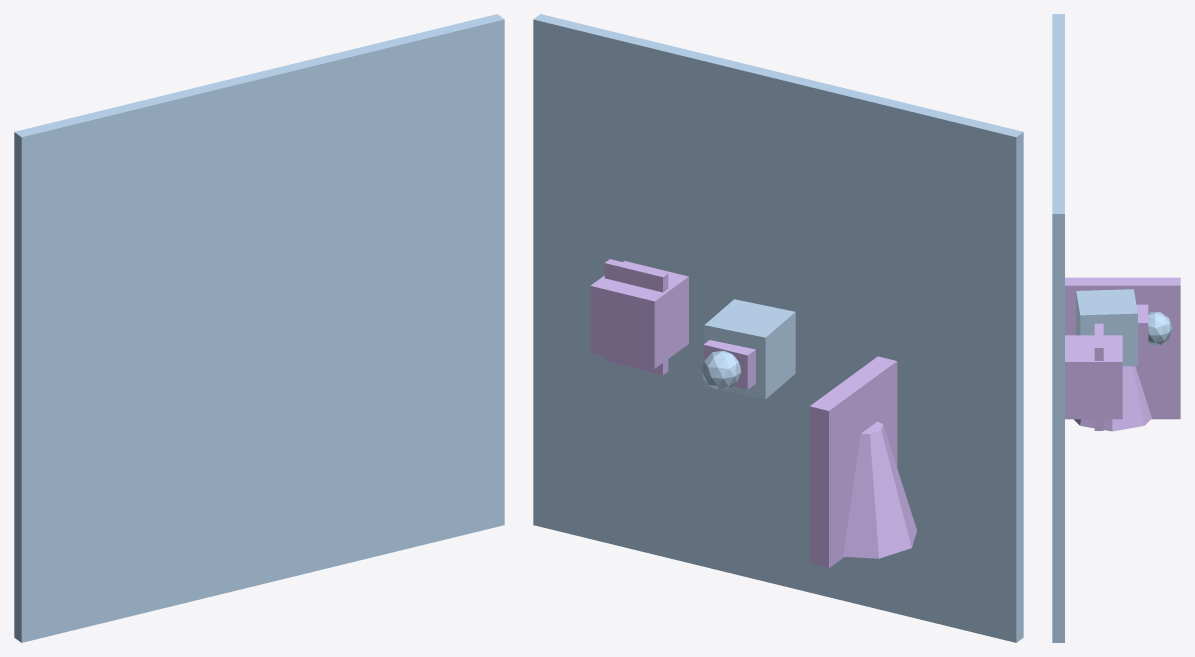
Rendered from deckbound-rogue-kit.glb.
3 views of the same model, side by side, from view 1: azimuth 30°, elevation 25°; view 2: azimuth 150°, elevation 25°; view 3: azimuth 270°, elevation 25° (orthographic). The views are drawn at different scales.
Parts seen in each view (by area): view 1: ENVIRONMENT_GROUND; view 2: ENVIRONMENT_GROUND, ENVIRONMENT_PANEL, OBSTACLE, PROFILE_ENVIRONMENT_DETAIL, PLAYER_BODY, PROFILE_OBSTACLE_DETAIL, PROFILE_PLAYER_HEAD, PROFILE_PLAYER_DETAIL; view 3: ENVIRONMENT_GROUND, ENVIRONMENT_PANEL, OBSTACLE, PLAYER_BODY, PROFILE_ENVIRONMENT_DETAIL, PROFILE_PLAYER_HEAD, PROFILE_PLAYER_DETAIL, PROFILE_OBSTACLE_DETAIL.
Part boxes in pixels (x1,y1,x2,y2): ENVIRONMENT_GROUND: (14,14,504,642); ENVIRONMENT_GROUND: (533,14,1023,642); ENVIRONMENT_PANEL: (809,356,897,568); OBSTACLE: (590,261,688,368); PROFILE_ENVIRONMENT_DETAIL: (843,421,916,558); PLAYER_BODY: (704,299,795,399); PROFILE_OBSTACLE_DETAIL: (604,259,668,374); PROFILE_PLAYER_HEAD: (701,350,741,390); PROFILE_PLAYER_DETAIL: (703,340,755,389); ENVIRONMENT_GROUND: (1052,14,1064,642); ENVIRONMENT_PANEL: (1065,277,1180,419); OBSTACLE: (1065,335,1122,419); PLAYER_BODY: (1076,289,1137,366); PROFILE_ENVIRONMENT_DETAIL: (1074,366,1151,431); PROFILE_PLAYER_HEAD: (1148,312,1172,344); PROFILE_PLAYER_DETAIL: (1136,304,1148,352); PROFILE_OBSTACLE_DETAIL: (1094,323,1103,430).
Size of the model in its own units: 9 by 9 by 2.44.
